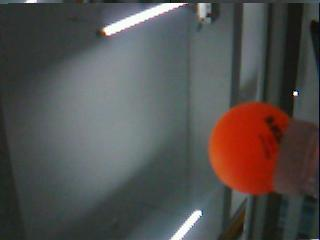oball: (207, 101, 291, 195)
